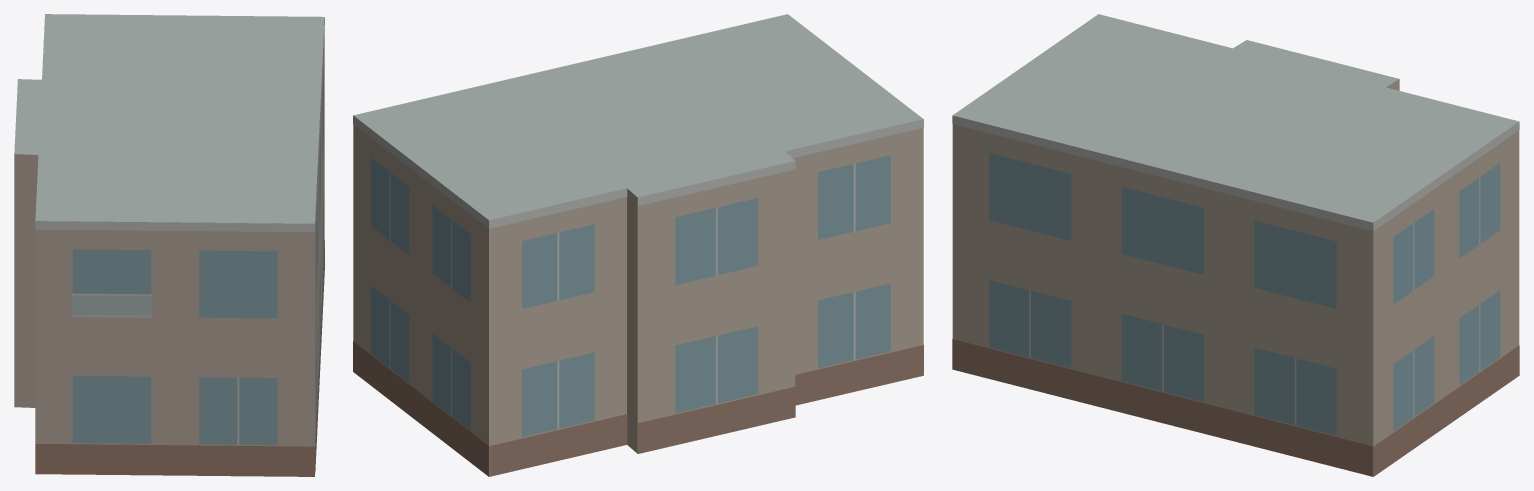
File: survey-upis-32500001.glb
The picture shows the model from 3 angles, left to right: view 1: azimuth 30°, elevation 25°; view 2: azimuth 150°, elevation 25°; view 3: azimuth 270°, elevation 25°; orthographic projection.
Parts seen in each view (by area): view 1: survey-upis-32500001.tmp; view 2: survey-upis-32500001.tmp; view 3: survey-upis-32500001.tmp.
Part boxes in pixels (box(x1,y1,x2,y2)): survey-upis-32500001.tmp: box(14, 14, 324, 476); survey-upis-32500001.tmp: box(353, 14, 923, 476); survey-upis-32500001.tmp: box(952, 14, 1519, 476).
Bounding box in the file's own units: 12.87 × 7.3 × 14.77.
